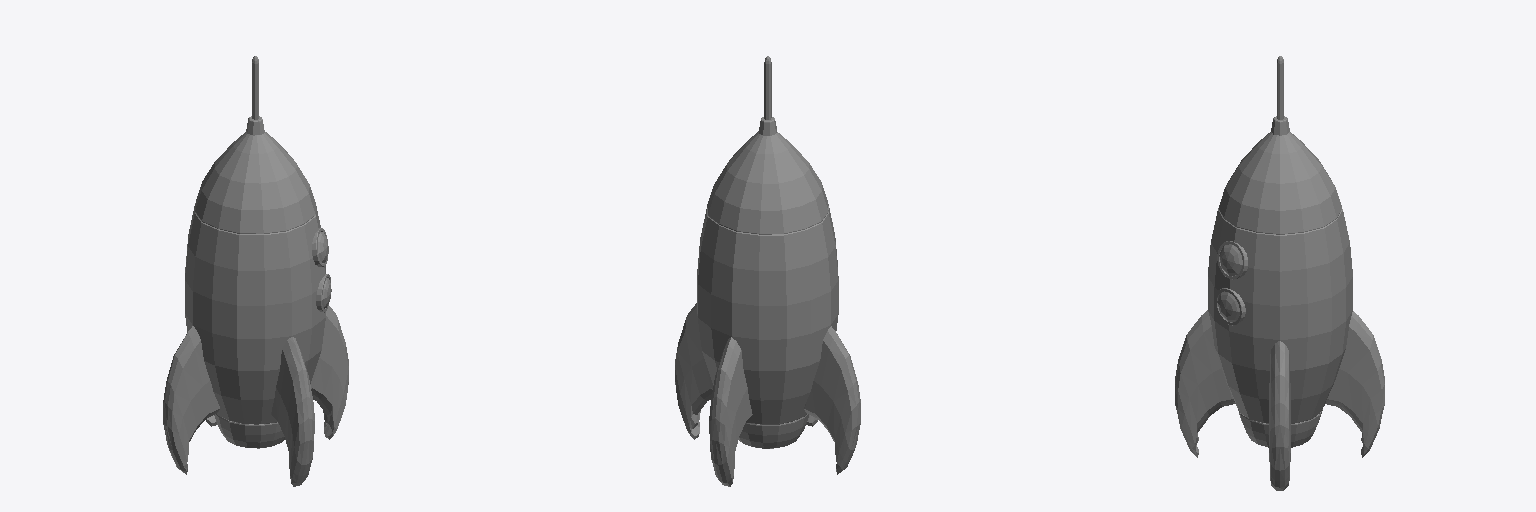
Rendered from ToyRocket_AM.obj.
The picture shows the model from 3 angles: view 1: azimuth 30°, elevation 25°; view 2: azimuth 150°, elevation 25°; view 3: azimuth 270°, elevation 25°; orthographic projection.
Parts seen in each view (by area): view 1: LP_ToyRocket; view 2: LP_ToyRocket; view 3: LP_ToyRocket.
Boxes of the visible parts, x1=… form: LP_ToyRocket: x1=163, y1=56, x2=348, y2=486; LP_ToyRocket: x1=675, y1=56, x2=860, y2=486; LP_ToyRocket: x1=1175, y1=56, x2=1384, y2=490.
Size of the model in its own units: 4.44 by 9.32 by 4.44.